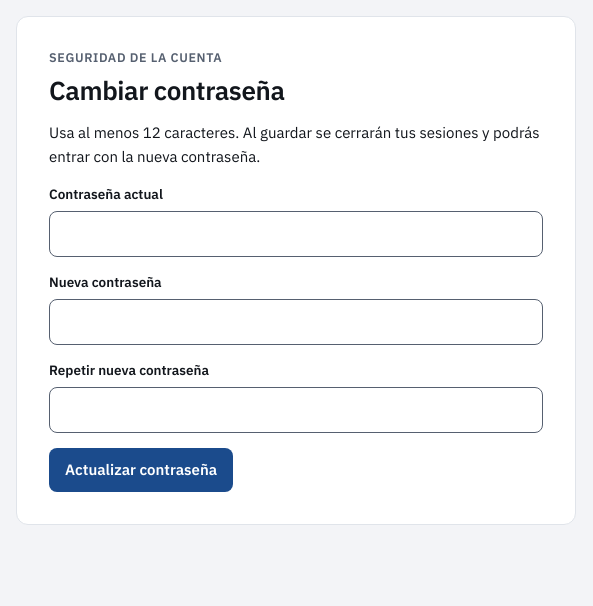
Test case: evita cambiar contraseña si la confirmación difiere
Type "currentExample123" into the password field labelled "Contraseña actual" at (296, 234), box [49,211,543,257]
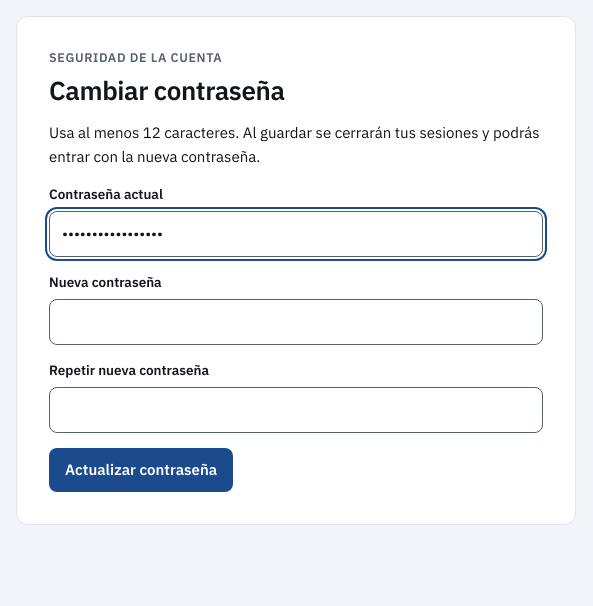
Type "newExamplePassword123" into the password field labelled "Nueva contraseña" at (296, 322), box [49,299,543,345]
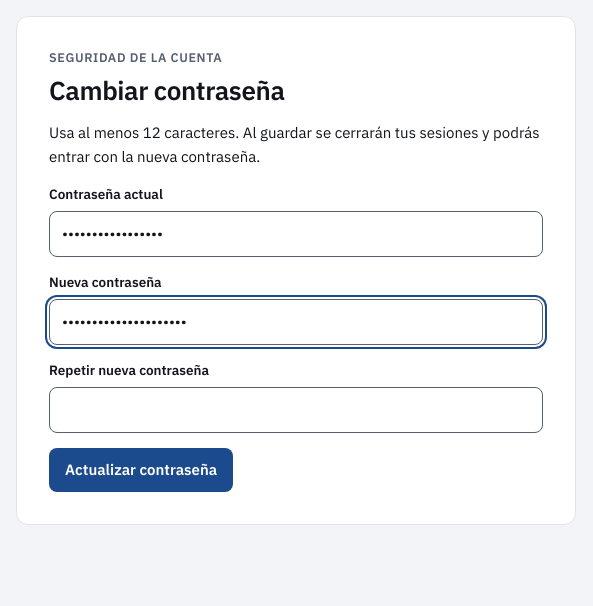
Type "different" into the password field labelled "Repetir nueva contraseña" at (296, 410), box [49,387,543,433]
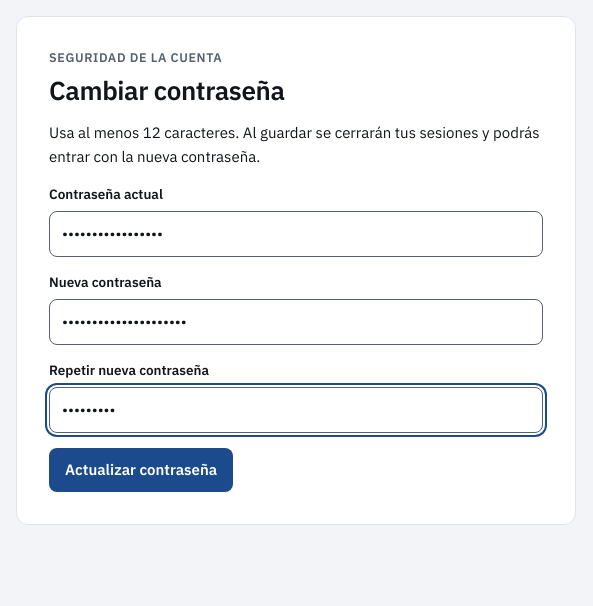
Click the button "Actualizar contraseña" at (141, 470), box [49,448,233,492]
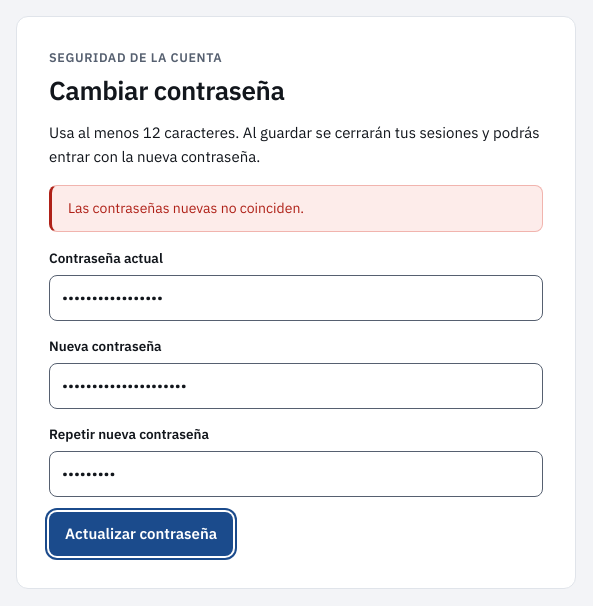
Result: the message shows "no coinciden" at [68,199,304,217]
